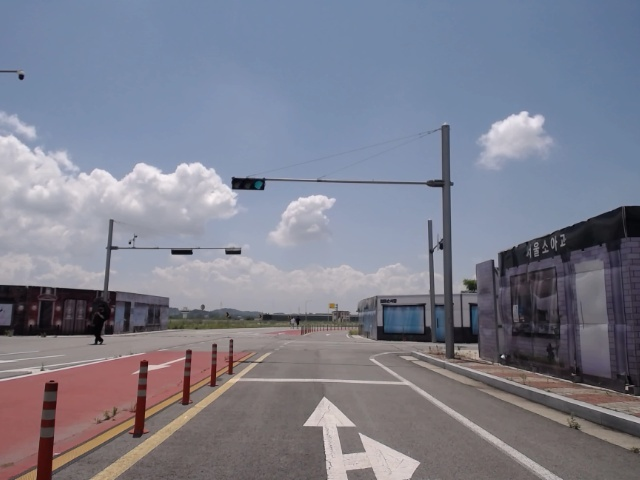green_3: (232, 178, 264, 190)
